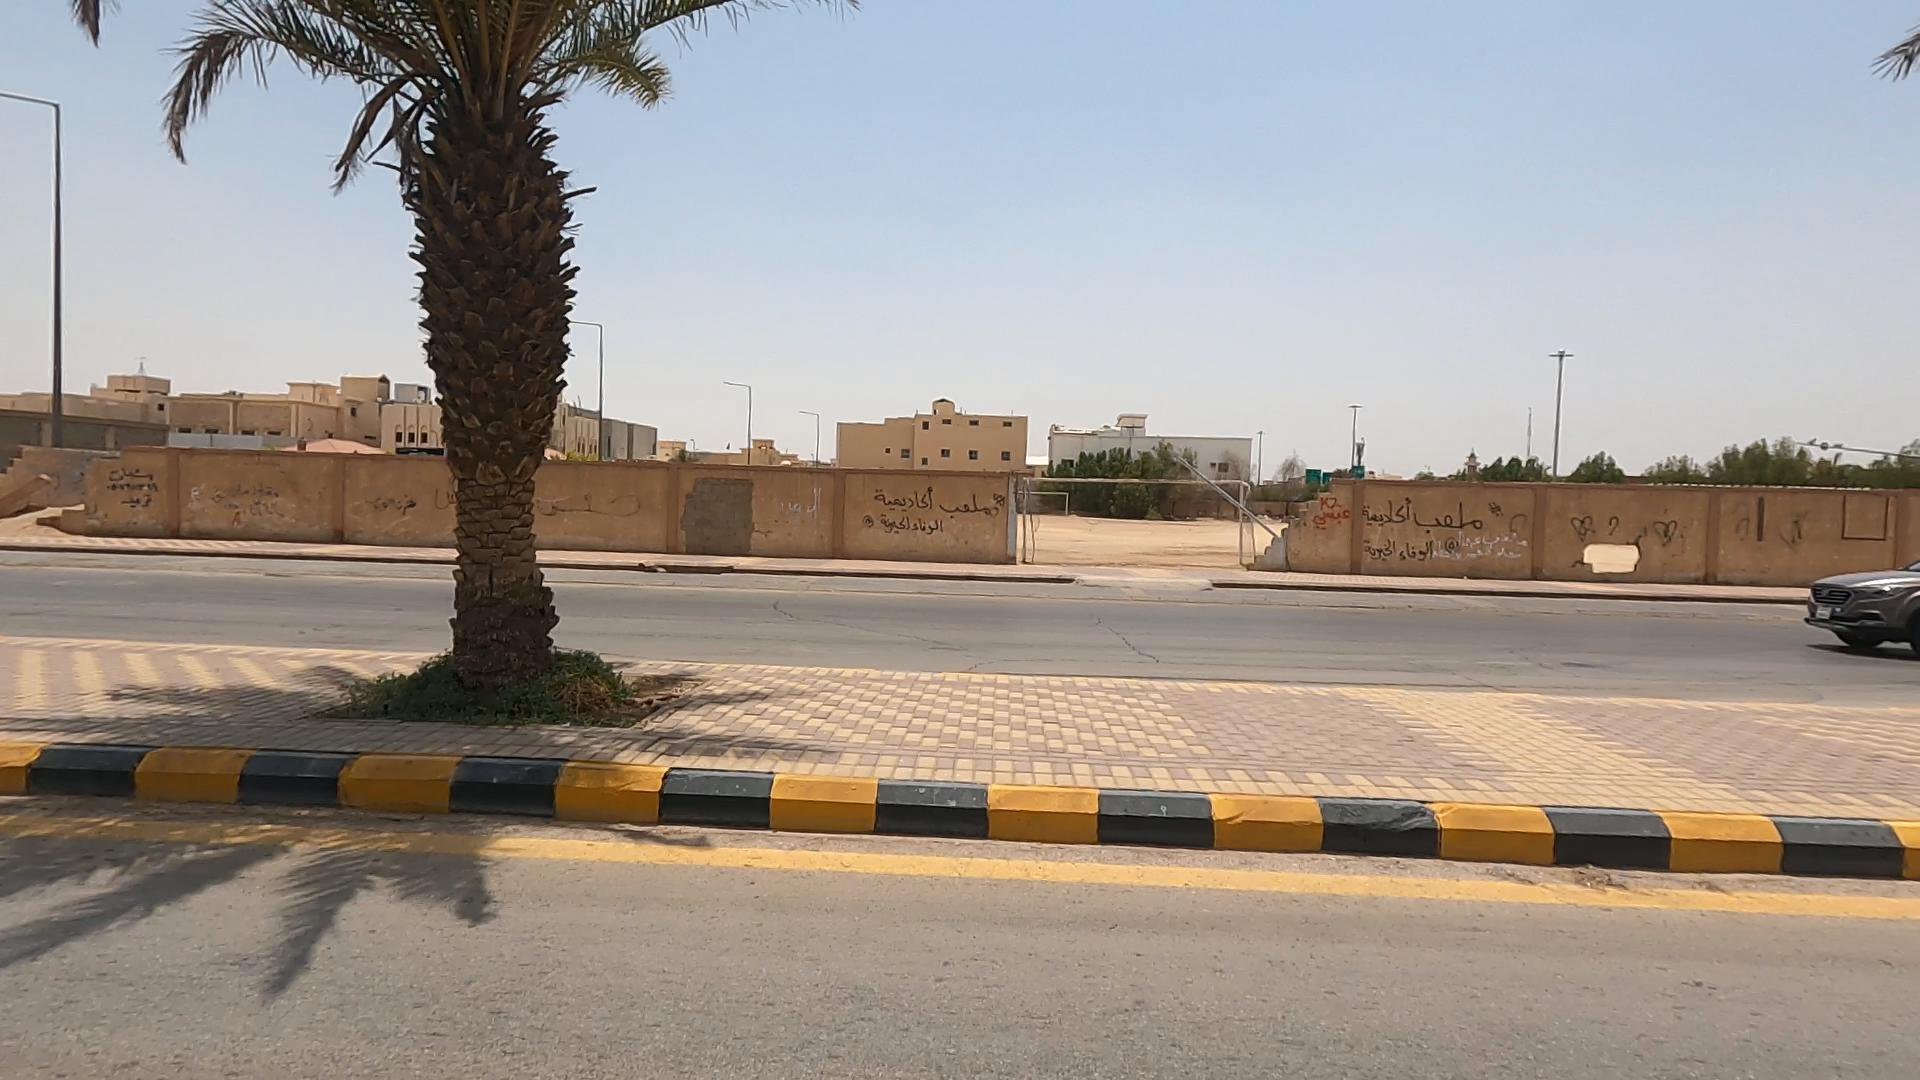GRAFFITI: (723, 454, 1121, 571)
